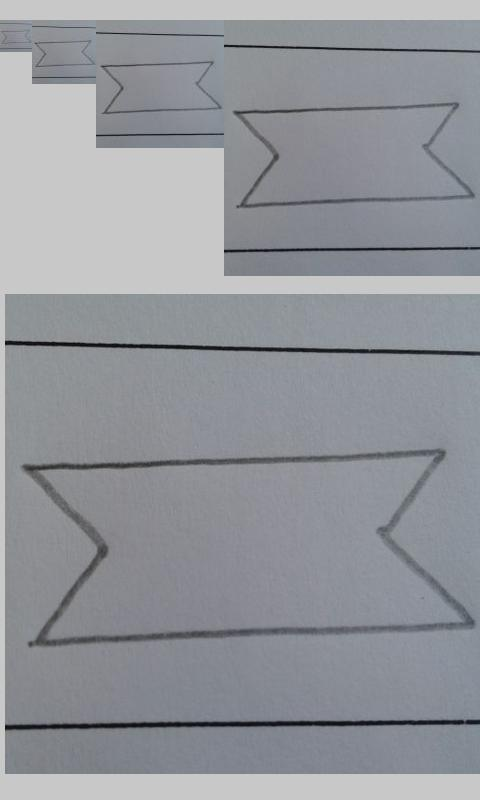edit_text: (20, 447, 474, 647), (233, 102, 475, 209), (99, 61, 221, 114), (35, 40, 94, 67), (1, 29, 31, 45)
